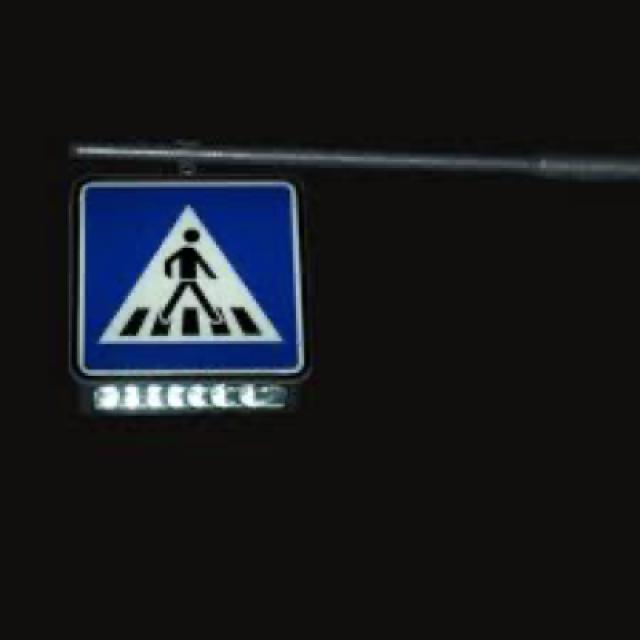crosswalk_sign: (76, 178, 306, 378)
